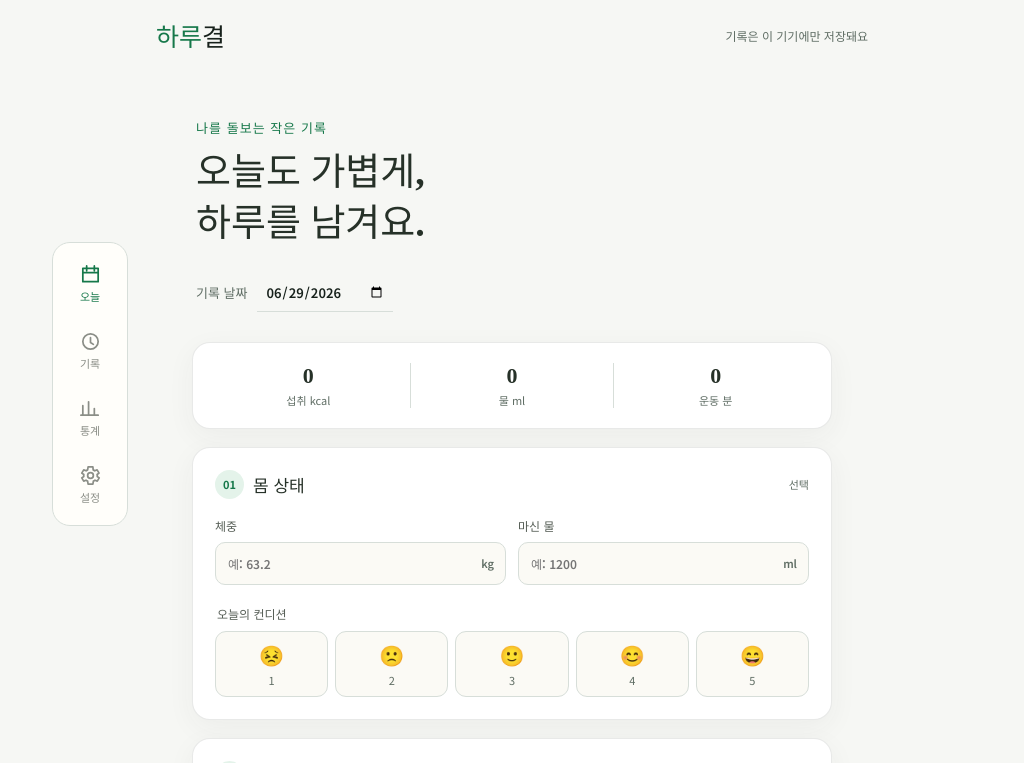
it: App › navigates to an empty history screen
The image size is (1024, 763).
Step 1. Click the button "기록" → point(90, 350), box [61,322,119,379]
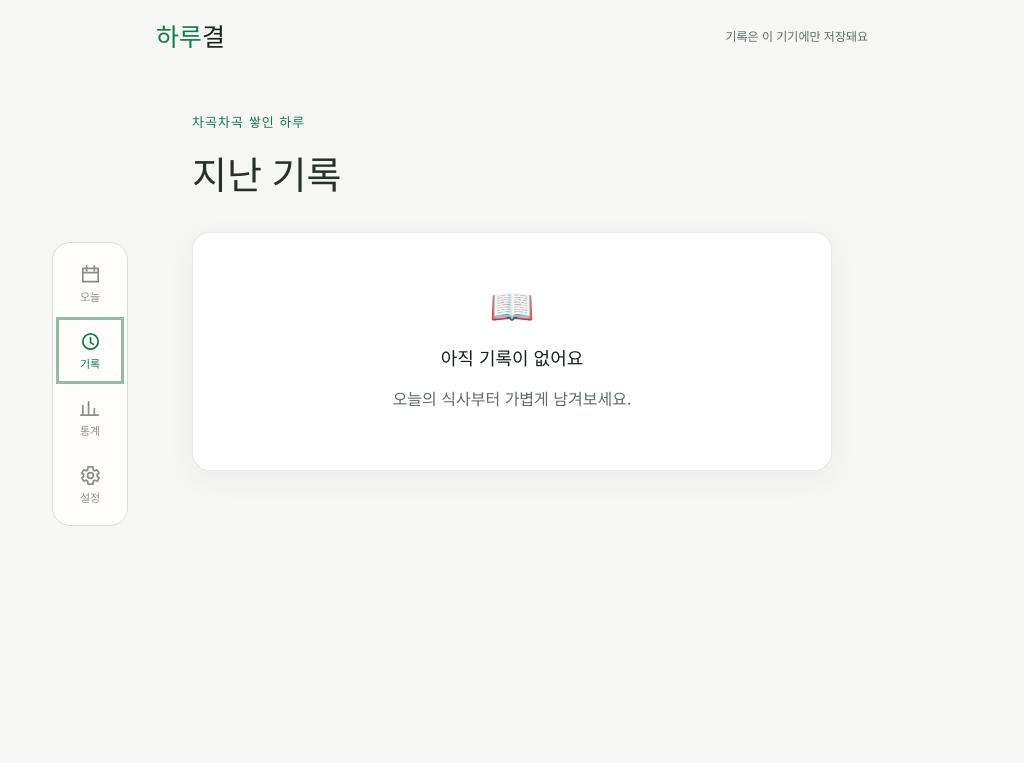
Expected: the heading "지난 기록" is shown, [192,155,341,197]
